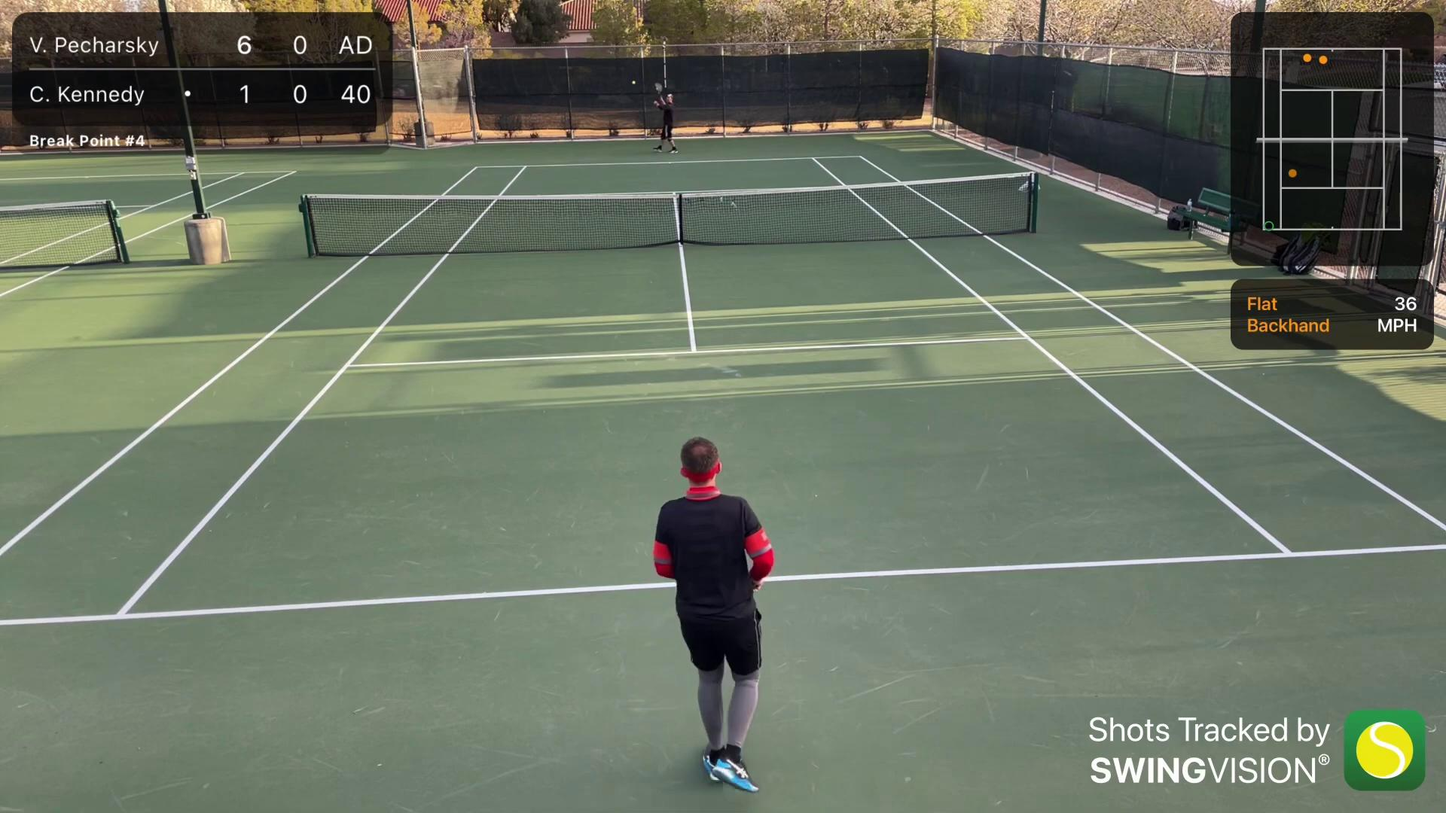ball: (630, 79, 637, 86)
